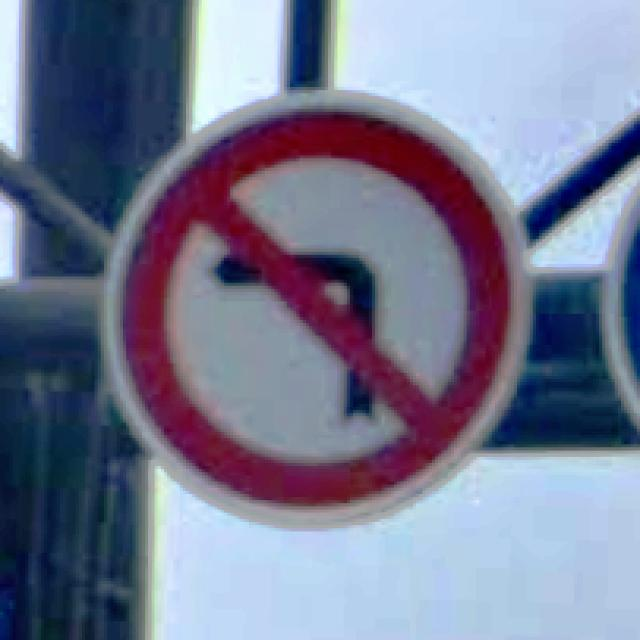noturnleft: (98, 87, 533, 525)
